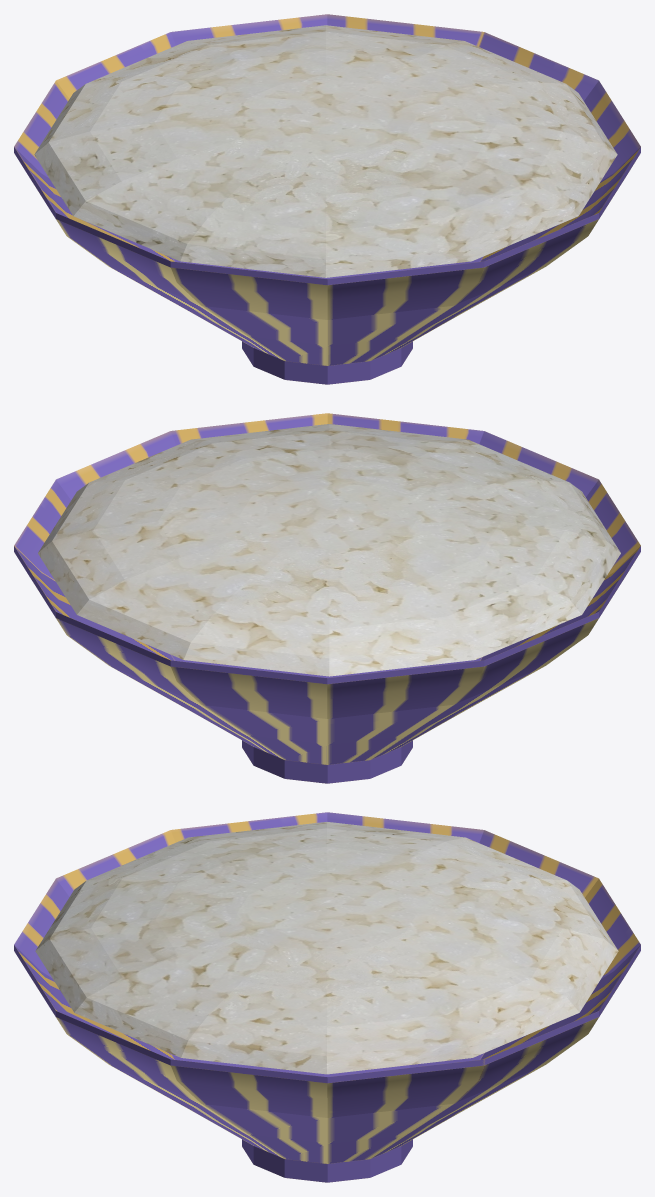
Rendered from donburi3.fbx.
3 renders of one model, top to bottom at view 1: azimuth 30°, elevation 25°; view 2: azimuth 150°, elevation 25°; view 3: azimuth 270°, elevation 25°, orthographic.
Parts seen in each view (by area): view 1: pSphere2, pSphere1; view 2: pSphere2, pSphere1; view 3: pSphere2, pSphere1.
Part boxes in pixels (x1,y1,x2,y2): pSphere2: (34, 25, 617, 277); pSphere1: (14, 14, 640, 384); pSphere2: (38, 424, 620, 676); pSphere1: (14, 413, 640, 783); pSphere2: (35, 822, 618, 1074); pSphere1: (14, 812, 640, 1182).
Bounding box in the file's own units: 2.81 × 1.16 × 2.81.
2 materials, 2 textured.
